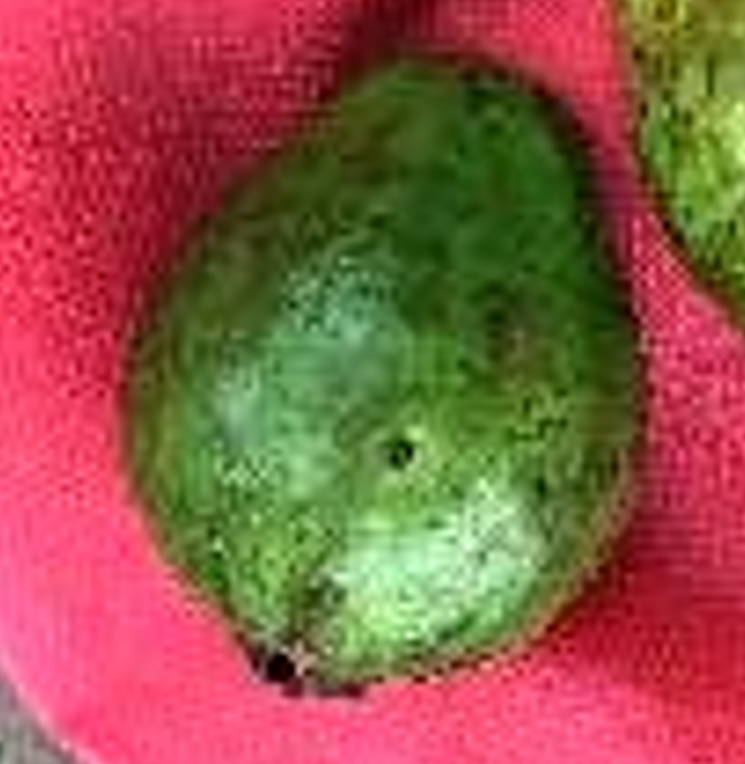guava_B: (117, 53, 646, 694)
